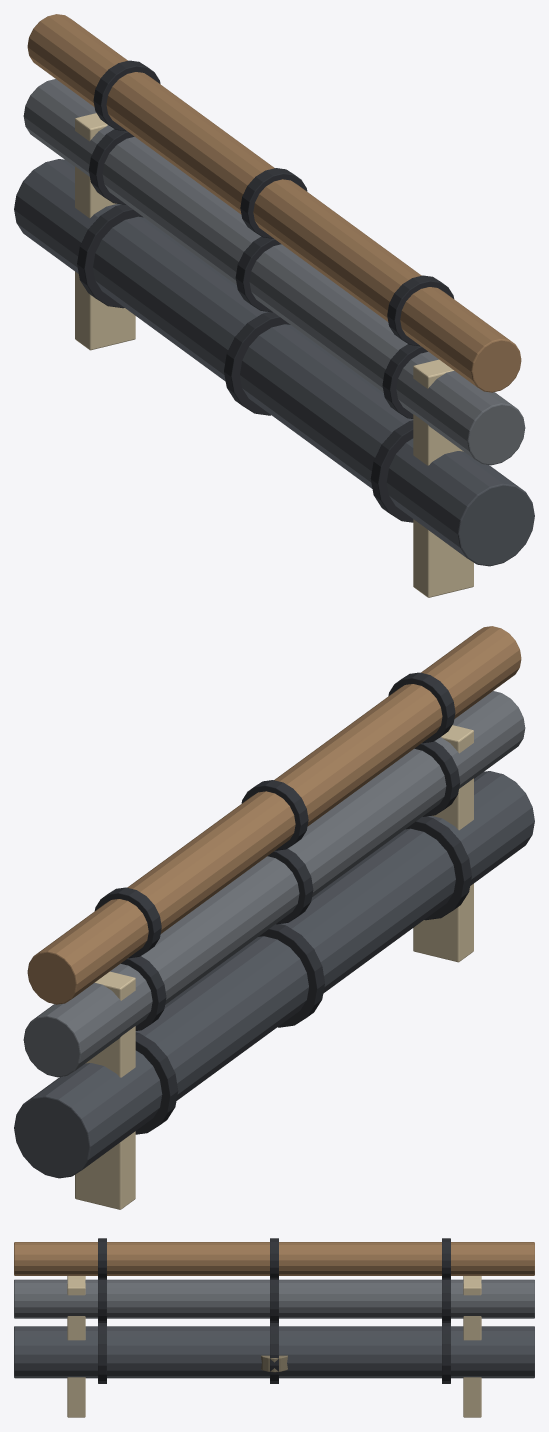
Rendered from env_piperun.fbx.
3 renders of one model, top to bottom at view 1: azimuth 30°, elevation 25°; view 2: azimuth 150°, elevation 25°; view 3: azimuth 270°, elevation 25°, orthographic. The views are drawn at different scales.
Parts seen in each view (by area): view 1: SM_Env_Piperun; view 2: SM_Env_Piperun; view 3: SM_Env_Piperun.
Part boxes in pixels (x1,y1,x2,y2): SM_Env_Piperun: (14, 14, 534, 597); SM_Env_Piperun: (14, 626, 534, 1209); SM_Env_Piperun: (14, 1238, 534, 1417).
Size of what is drawn, in the model's own units: 48.8 by 145 by 400.
